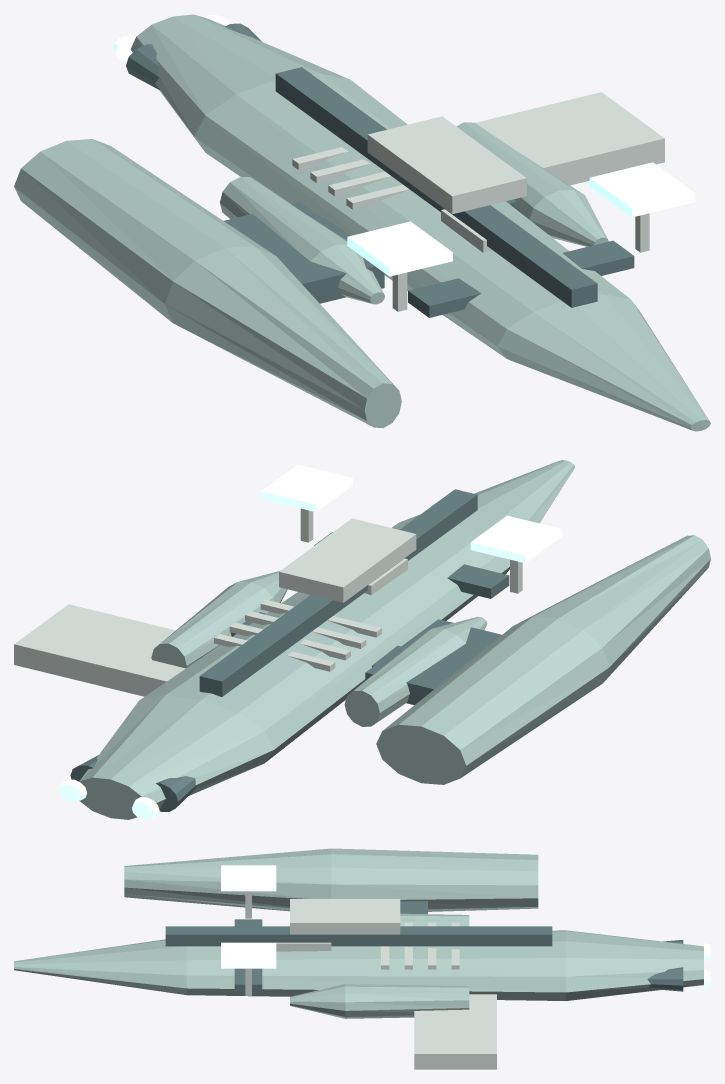
3 views of the same model, one above another, from view 1: azimuth 30°, elevation 25°; view 2: azimuth 150°, elevation 25°; view 3: azimuth 270°, elevation 25° (orthographic). The views are drawn at different scales.
Size of the model in its own units: 6.46 by 1.33 by 10.61.
